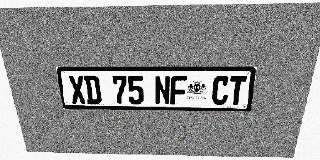5: (127, 75, 144, 104)
7: (111, 75, 128, 104)
C: (211, 76, 230, 105)
D: (83, 75, 102, 104)
F: (171, 76, 187, 105)
N: (154, 75, 170, 105)
T: (227, 76, 247, 105)
X: (68, 75, 87, 104)
